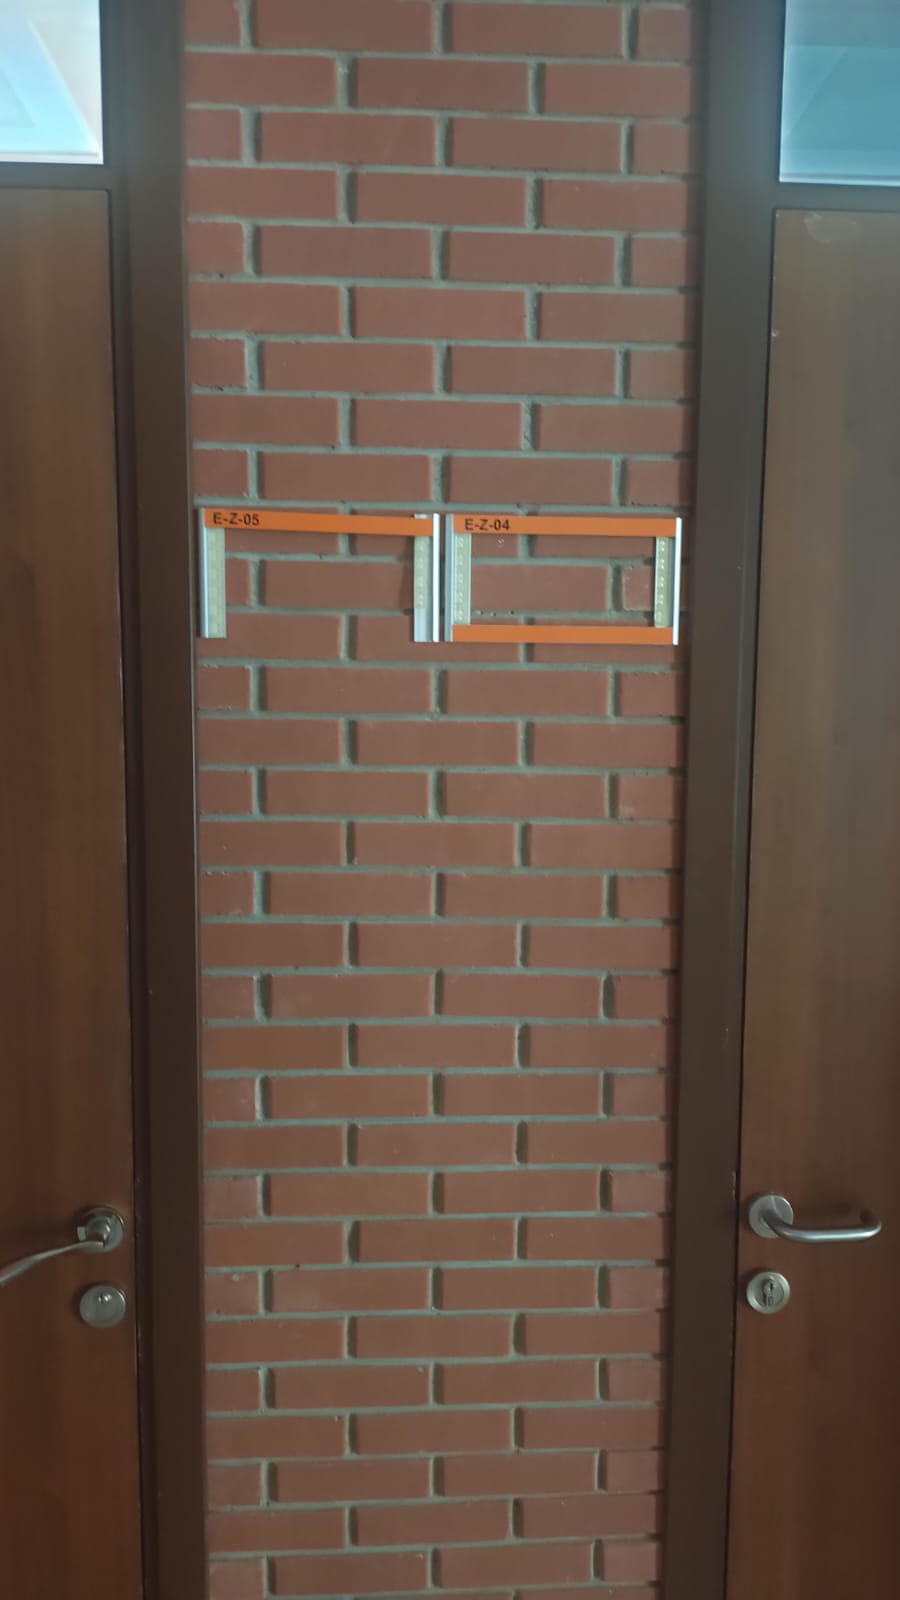redbrick: (249, 220, 437, 284), (444, 113, 627, 175), (343, 171, 533, 227), (436, 229, 621, 286), (345, 396, 530, 453), (348, 286, 531, 343), (441, 1, 629, 56), (349, 56, 535, 111), (253, 112, 441, 166), (533, 288, 703, 346), (438, 768, 615, 824), (527, 398, 699, 454), (442, 346, 623, 399), (258, 342, 441, 393), (180, 281, 344, 338), (438, 871, 612, 925), (249, 1, 438, 51), (347, 718, 524, 770), (178, 166, 344, 222), (442, 667, 616, 720), (263, 867, 436, 920), (346, 820, 523, 871), (258, 454, 437, 504), (533, 176, 701, 230), (258, 558, 412, 616), (258, 667, 438, 716), (538, 62, 699, 116), (260, 968, 434, 1019), (430, 1069, 611, 1118), (262, 769, 437, 819), (353, 1498, 518, 1551), (184, 55, 346, 108), (444, 457, 616, 507), (526, 820, 687, 873), (273, 1452, 440, 1502), (512, 1307, 674, 1358), (513, 1491, 668, 1545), (184, 395, 344, 446), (354, 1404, 514, 1456), (198, 1216, 357, 1268), (518, 1019, 680, 1069), (520, 1212, 682, 1263), (266, 1069, 432, 1119), (349, 1218, 516, 1265), (523, 719, 686, 767), (195, 716, 346, 768), (351, 1122, 527, 1166), (349, 1313, 522, 1358), (438, 1165, 610, 1210), (195, 821, 345, 871), (442, 969, 601, 1016), (198, 613, 349, 662), (473, 562, 614, 613), (510, 1403, 669, 1447), (627, 119, 705, 177), (622, 346, 704, 400), (620, 457, 700, 511), (621, 233, 703, 285), (178, 110, 248, 166), (627, 5, 697, 62), (186, 335, 254, 391), (616, 768, 686, 823), (613, 871, 684, 925), (181, 223, 249, 278), (193, 867, 262, 921), (186, 449, 252, 504), (618, 669, 689, 720), (189, 665, 256, 715), (193, 768, 262, 818), (185, 1, 247, 47)
